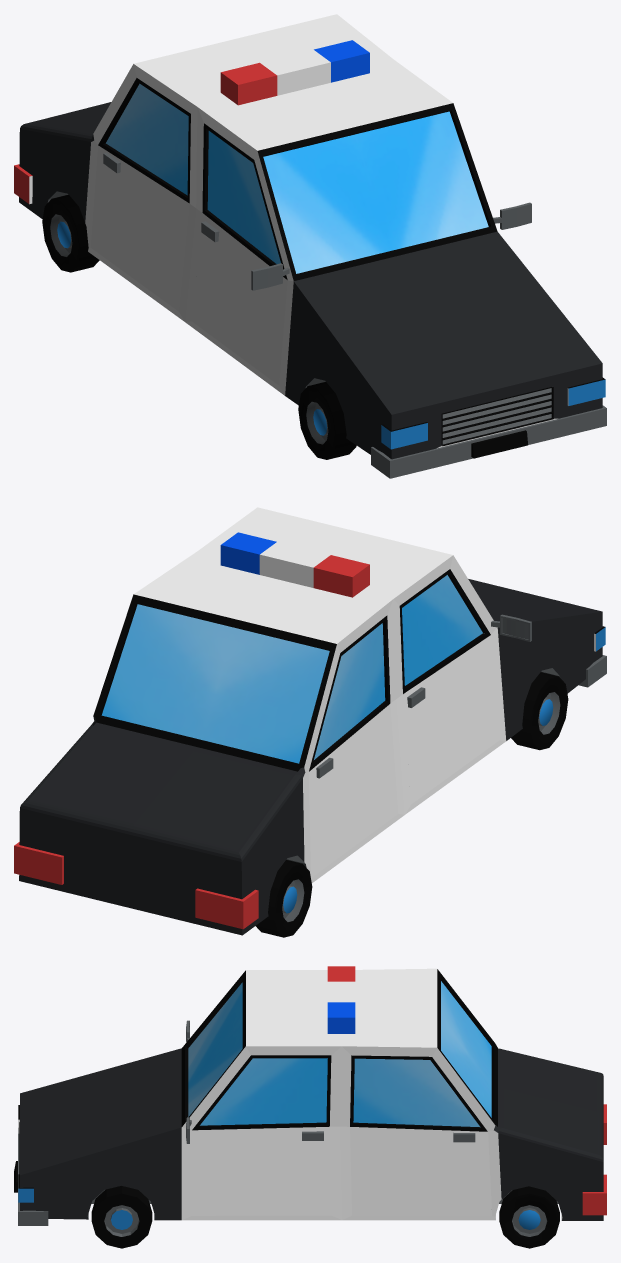
The model's file is Car_Police.fbx.
3 views of the same model, one above another, from view 1: azimuth 30°, elevation 25°; view 2: azimuth 150°, elevation 25°; view 3: azimuth 270°, elevation 25° (orthographic). The views are drawn at different scales.
Parts seen in each view (by area): view 1: Car_Police, Car_Police_Door_B_R, Car_Police_Door_F_R, Police Indication, Wheel_F_R.001, Wheel_B_R.001, Car_Police_Trunkk; view 2: Car_Police, Car_Police_Trunkk, Car_Police_Door_F_R, Car_Police_Door_B_R, Police Indication, Wheel_F_R.001, Wheel_B_R.001; view 3: Car_Police, Car_Police_Door_F_L, Car_Police_Door_B_L, Car_Police_Trunkk, Wheel_F_L.001, Wheel_B_L.001, Police Indication.
Boxes of the visible parts, x1,y1,x2,y2 form: Car_Police: (14, 14, 606, 478); Car_Police_Door_B_R: (90, 78, 190, 311); Car_Police_Door_F_R: (191, 123, 287, 385); Police Indication: (220, 40, 369, 105); Wheel_F_R.001: (298, 382, 356, 459); Wheel_B_R.001: (42, 194, 99, 272); Car_Police_Trunkk: (32, 102, 111, 133); Car_Police: (14, 507, 606, 935); Car_Police_Trunkk: (32, 727, 292, 850); Car_Police_Door_F_R: (399, 569, 499, 804); Car_Police_Door_B_R: (308, 615, 398, 877); Police Indication: (220, 532, 369, 597); Wheel_F_R.001: (511, 672, 568, 750); Wheel_B_R.001: (256, 860, 312, 937); Car_Police: (14, 968, 606, 1225); Car_Police_Door_F_L: (192, 1055, 331, 1215); Car_Police_Door_B_L: (350, 1055, 491, 1215); Car_Police_Trunkk: (504, 1050, 597, 1153); Wheel_F_L.001: (91, 1186, 152, 1248); Wheel_B_L.001: (499, 1186, 559, 1248); Police Indication: (327, 966, 355, 1033).
Bounding box in the file's own units: 546 × 497 × 1263.
